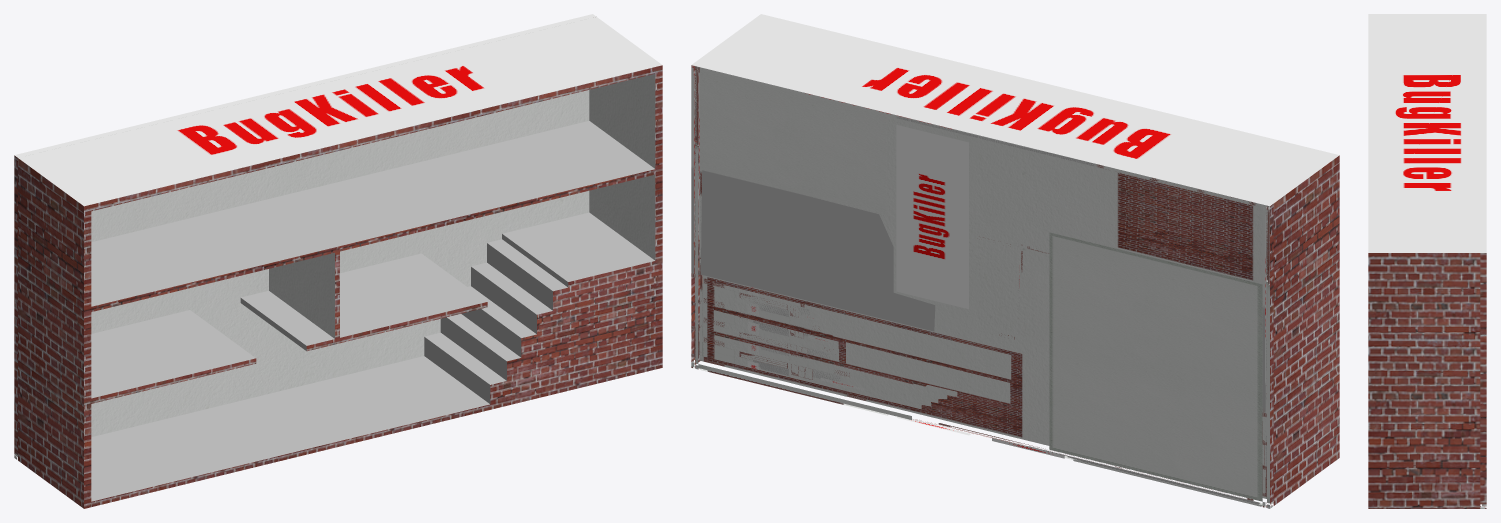
Rendered from level1.fbx.
3 views of the same model, side by side, from view 1: azimuth 30°, elevation 25°; view 2: azimuth 150°, elevation 25°; view 3: azimuth 270°, elevation 25° (orthographic). The views are drawn at different scales.
Parts seen in each view (by area): view 1: Cube; view 2: Cube; view 3: Cube.
Boxes of the visible parts, x1,y1,x2,y2 form: Cube: [14, 14, 662, 508]; Cube: [691, 14, 1339, 508]; Cube: [1368, 14, 1486, 508].
Size of the model in its own units: 80.19 by 40.08 by 16.77.
